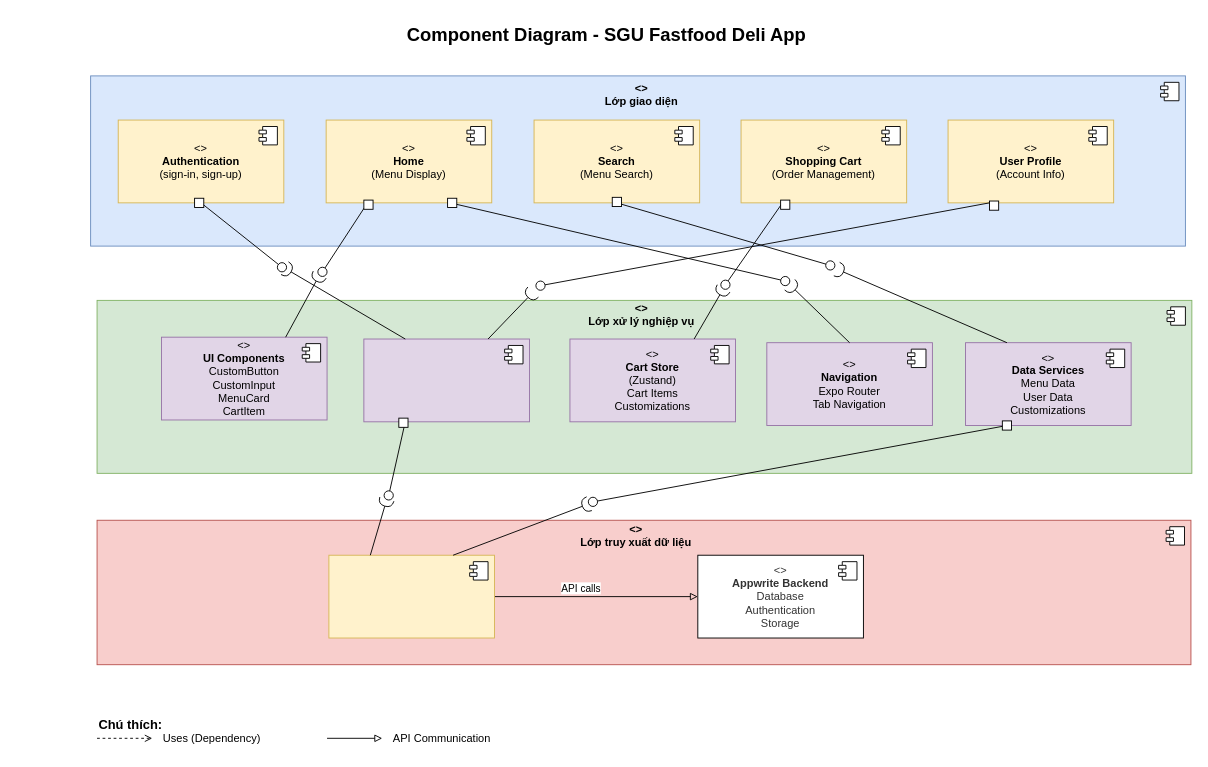
Some shapes in this 1208 by 767 pixel diagram are drawn without their labels. Here are the shapes that lost their labels. From the top down, the box of each, then its label:
(363, 338, 529, 422): <> Auth Store (Zustand) User State Authentication
(328, 554, 494, 638): <> Appwrite SDK Account API Database API Storage API
